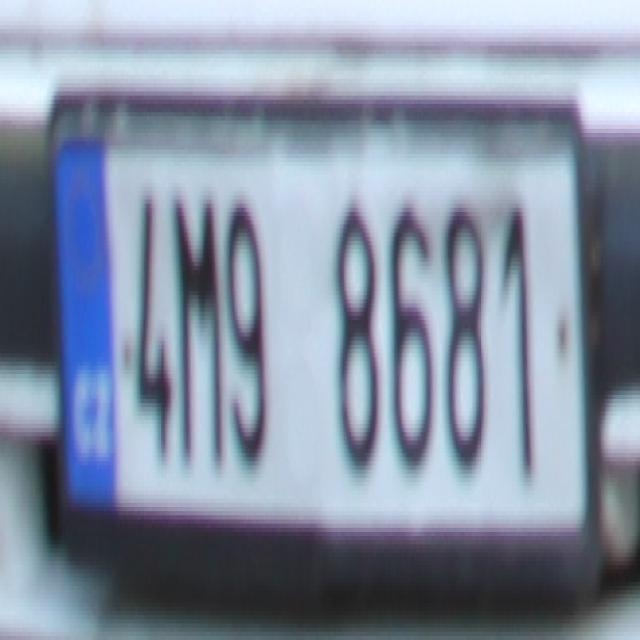1: (497, 191, 538, 478)
4: (132, 187, 173, 457)
6: (386, 191, 434, 470)
8: (332, 195, 381, 466), (439, 200, 486, 470)
9: (223, 204, 272, 466)
M: (173, 195, 224, 466)
